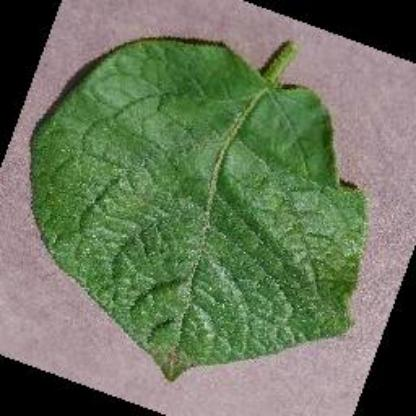Healthy-plant: (29, 32, 369, 384)
